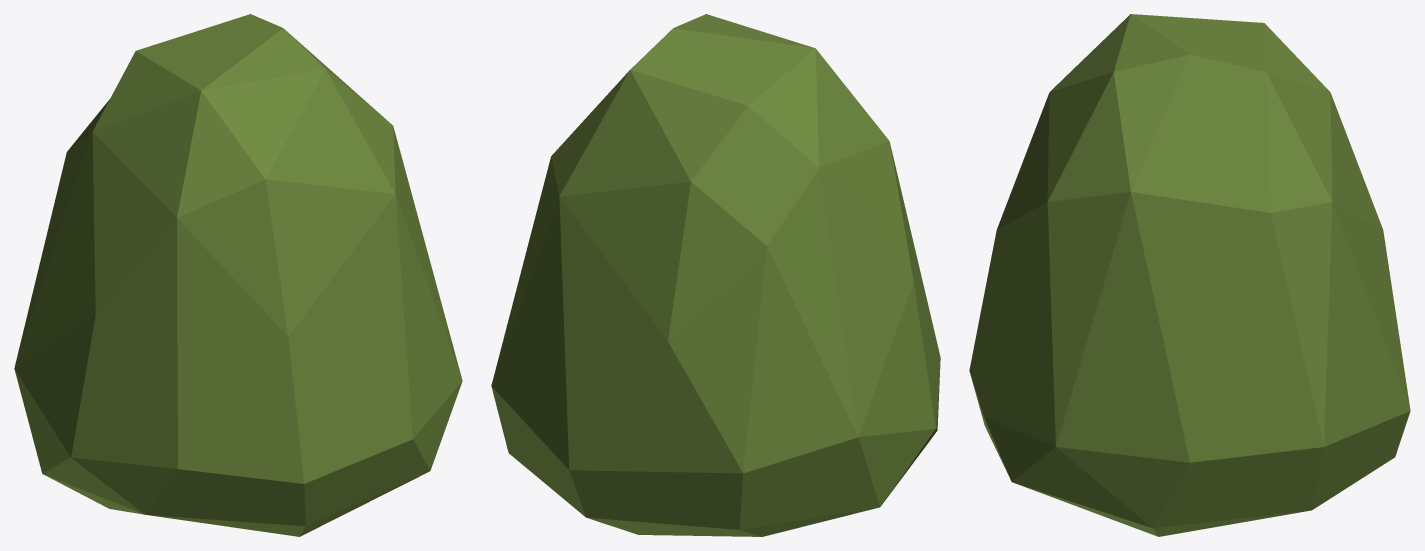
Rendered from wild_pz_bush_07.glb.
3 renders of one model, left to right at view 1: azimuth 30°, elevation 25°; view 2: azimuth 150°, elevation 25°; view 3: azimuth 270°, elevation 25°, orthographic.
Visible parts, largest first — view 1: pg_bushl_07; view 2: pg_bushl_07; view 3: pg_bushl_07.
Part boxes in pixels (left/top/right/bottom): pg_bushl_07: left=14, top=14, right=462, bottom=536; pg_bushl_07: left=491, top=14, right=940, bottom=536; pg_bushl_07: left=969, top=14, right=1410, bottom=536.
Size of the model in its own units: 1.27 by 1.45 by 1.27.
